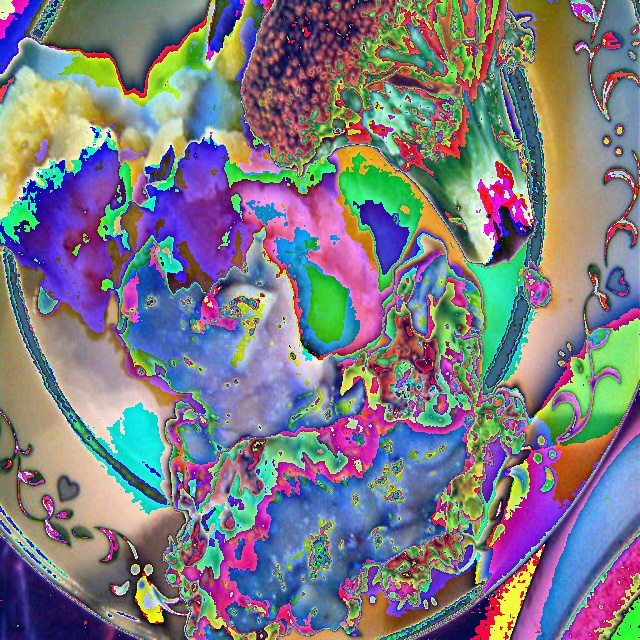background: (0, 0, 538, 640)
